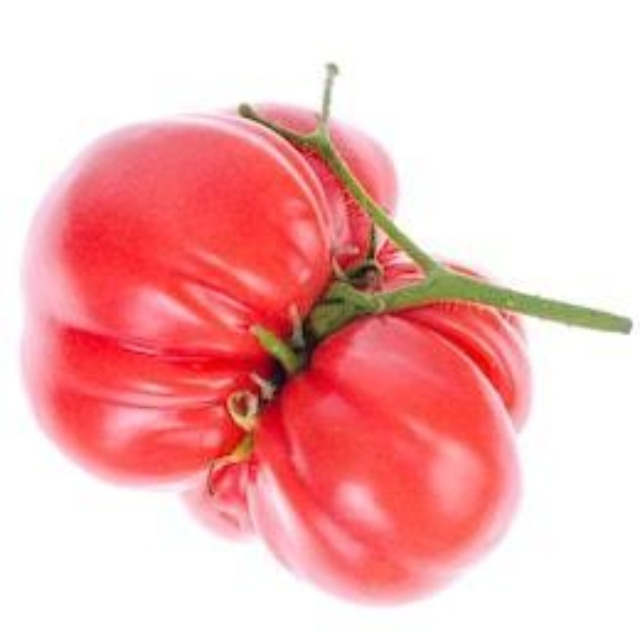tomato: (33, 102, 508, 593)
